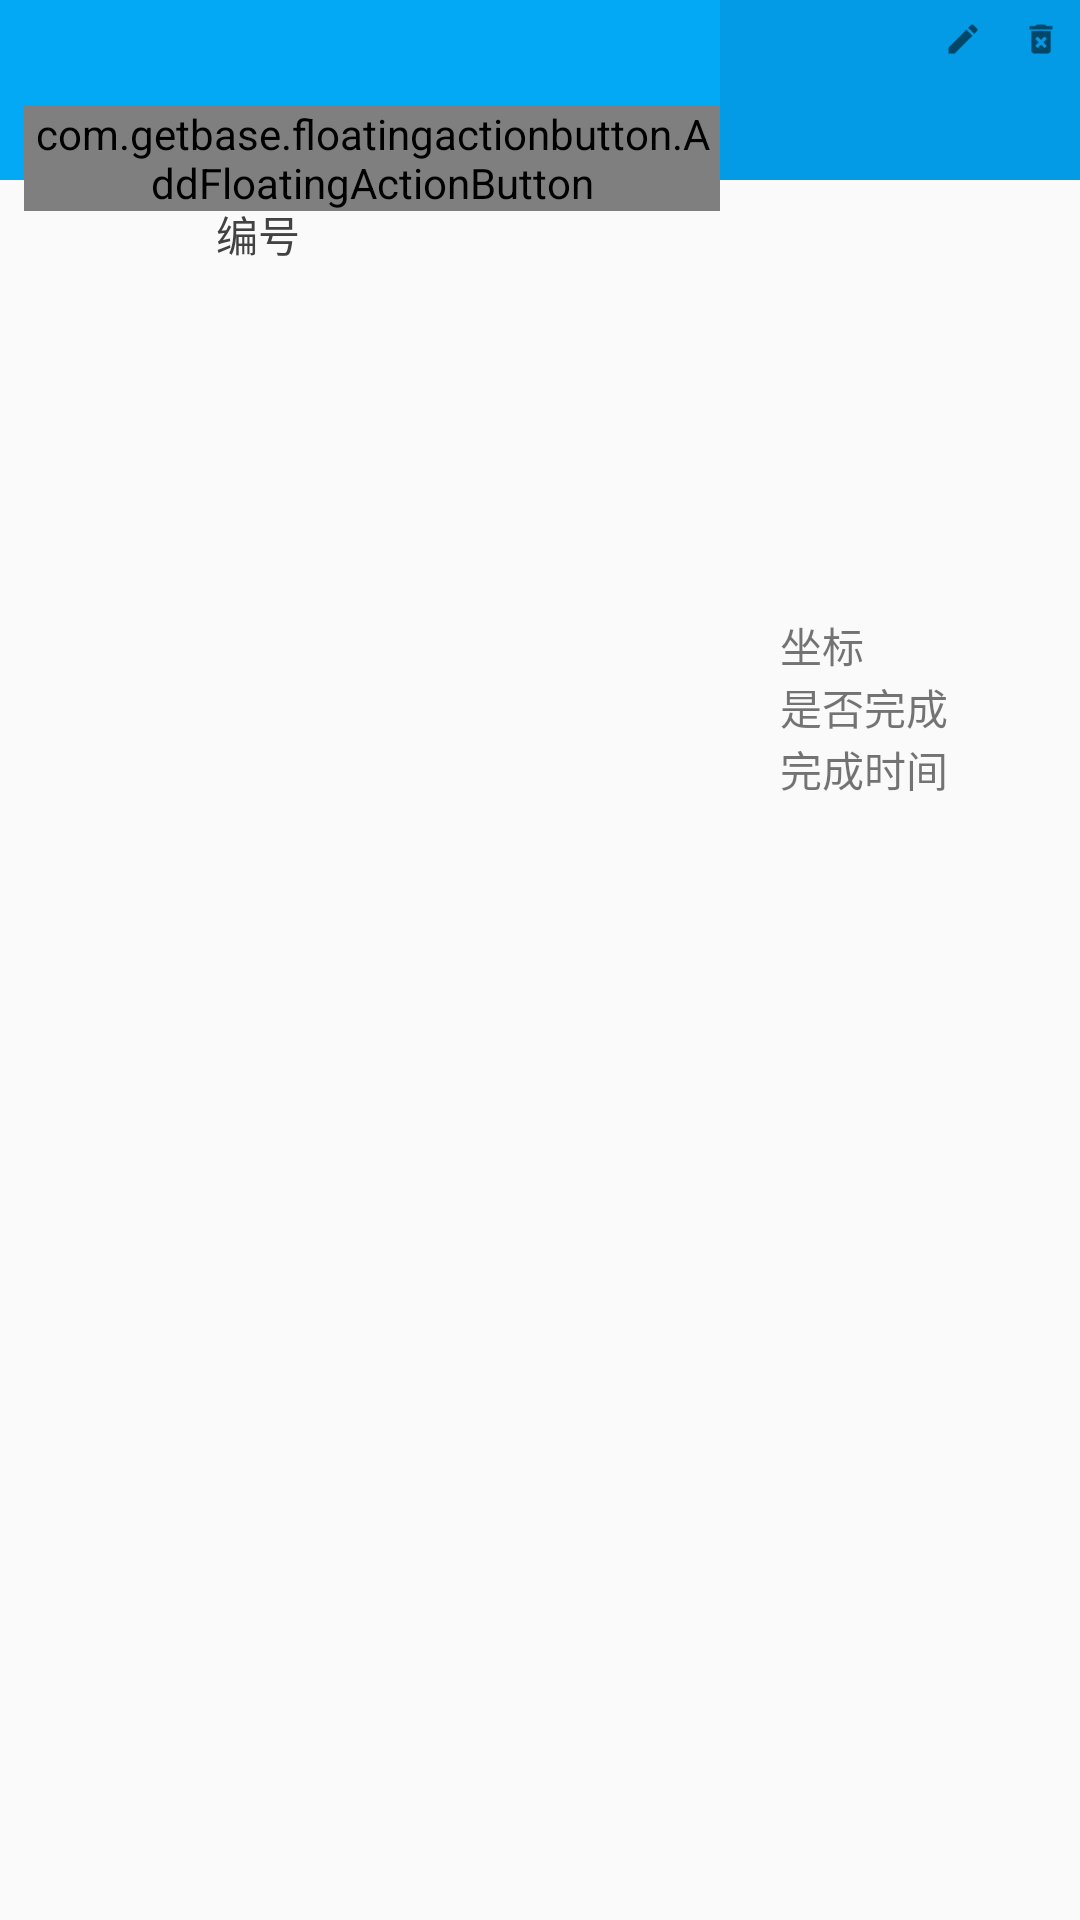

Icons on this 1080px×1920px Android screen, each with the point to tap as point (x, y):
delete: point (1041, 39)
edit: point (963, 39)
